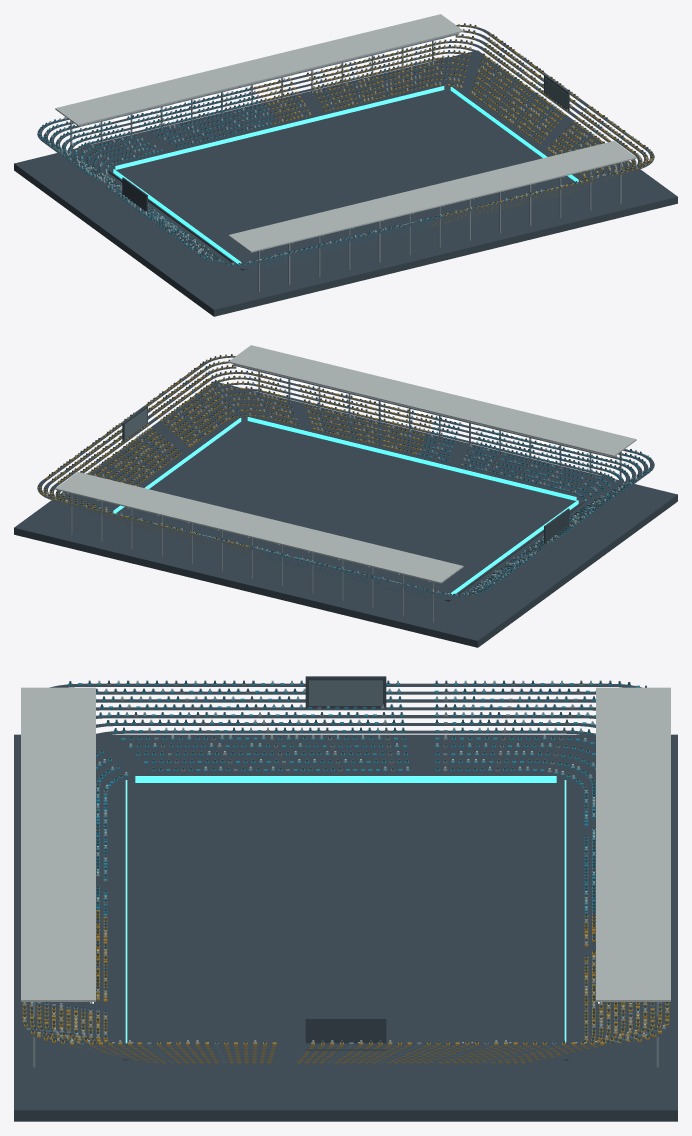
File: turning-point-stadium.glb
3 views of the same model, one above another, from view 1: azimuth 30°, elevation 25°; view 2: azimuth 150°, elevation 25°; view 3: azimuth 270°, elevation 25° (orthographic). The views are drawn at different scales.
Parts seen in each view (by area): view 1: Turning Point Stadium; view 2: Turning Point Stadium; view 3: Turning Point Stadium.
Part boxes in pixels (x1,y1,x2,y2): Turning Point Stadium: (14, 14, 677, 316); Turning Point Stadium: (14, 345, 677, 647); Turning Point Stadium: (14, 676, 677, 1121).
Size of the model in its own units: 154 by 17.2 by 115.
